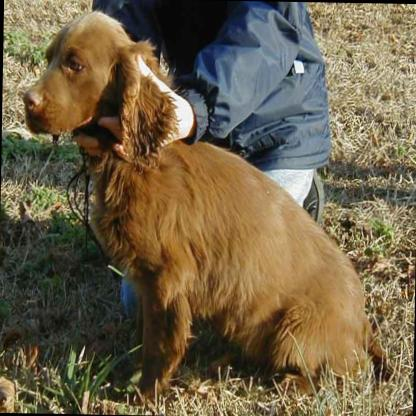Sussex_spaniel: (17, 10, 393, 410)
